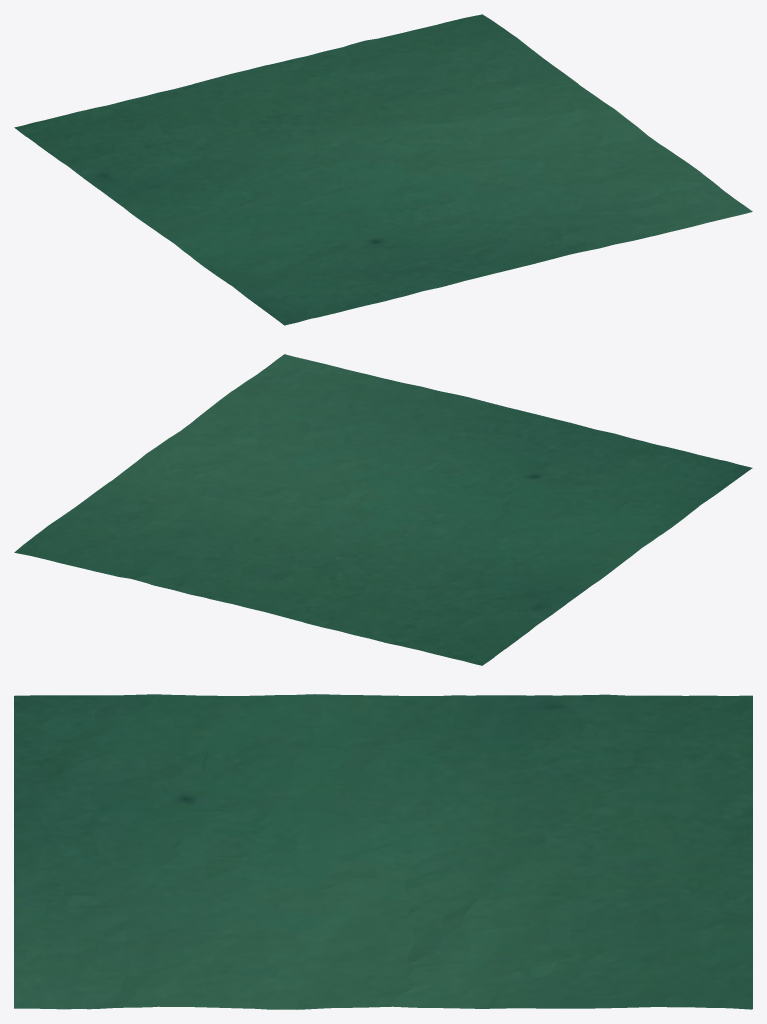
3 views of the same model, one above another, from view 1: azimuth 30°, elevation 25°; view 2: azimuth 150°, elevation 25°; view 3: azimuth 270°, elevation 25° (orthographic). The views are drawn at different scales.
Bounding box in the file's own units: 104 × 0.6313 × 104.
2 materials, 2 textured.
